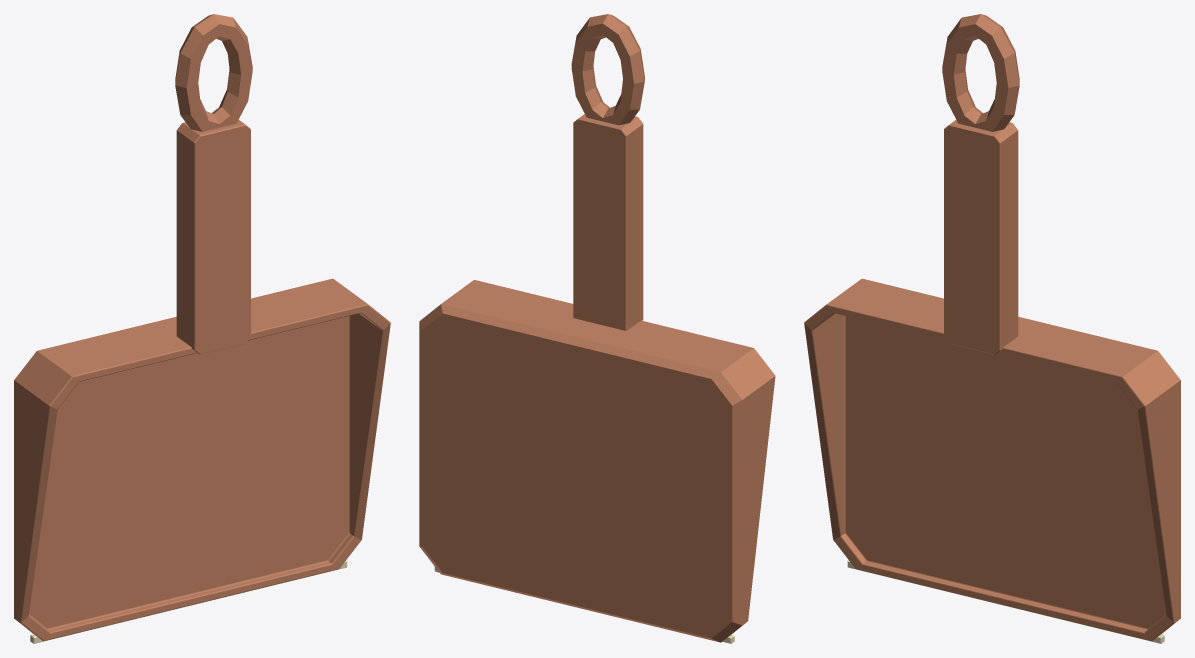
The model's file is dustpan.glb.
3 renders of one model, left to right at view 1: azimuth 30°, elevation 25°; view 2: azimuth 150°, elevation 25°; view 3: azimuth 330°, elevation 25°, orthographic. The views are drawn at different scales.
Parts seen in each view (by area): view 1: dustpan; view 2: dustpan; view 3: dustpan.
Part boxes in pixels (bbox=[...]): dustpan: bbox=[14, 14, 390, 643]; dustpan: bbox=[419, 14, 775, 643]; dustpan: bbox=[804, 14, 1180, 643].
Size of the model in its own units: 0.15 by 0.2555 by 0.032.
